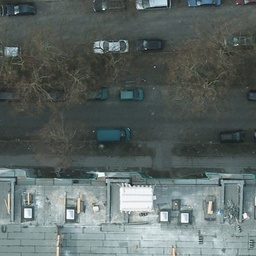car: (36, 86, 70, 101), (91, 0, 128, 13), (79, 86, 112, 100), (135, 0, 170, 13), (135, 38, 164, 53), (220, 127, 247, 143), (96, 40, 128, 53), (188, 0, 223, 9), (119, 88, 144, 100)
van: (99, 126, 132, 145)
